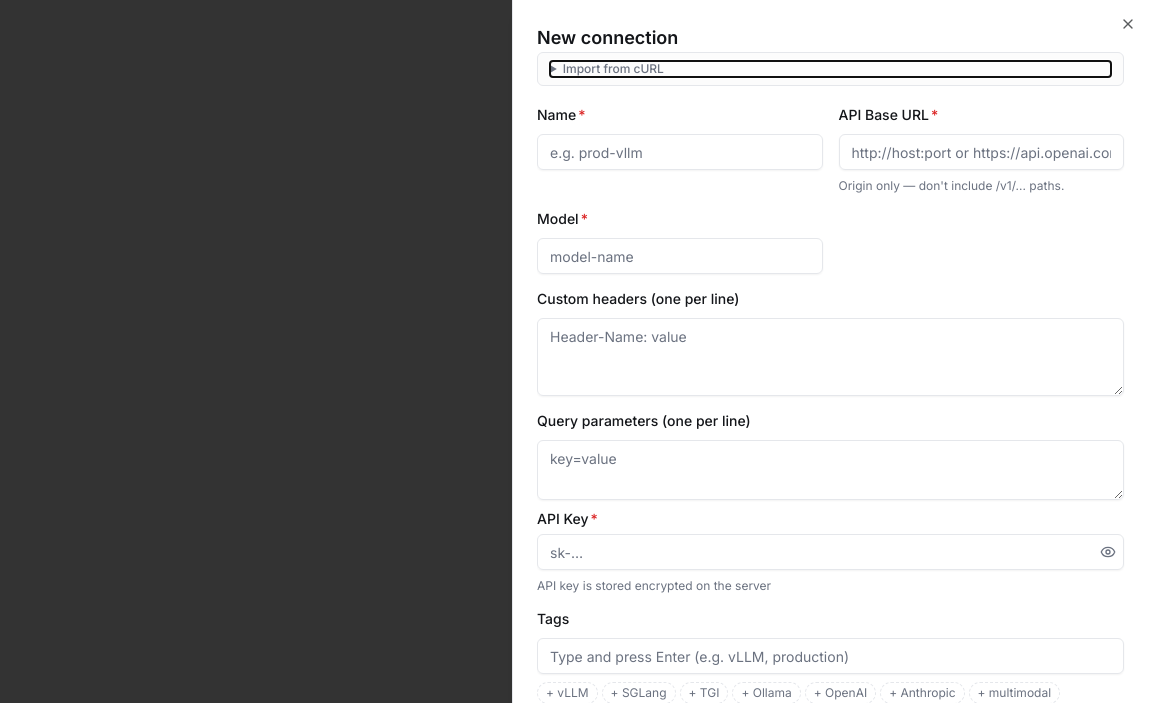
Test: ConnectionSheet (create mode) › removing a chip drops the tag
Type "x" into the field labelled "Tags" at (830, 656), box [537,638,1124,674]
Then press Enter
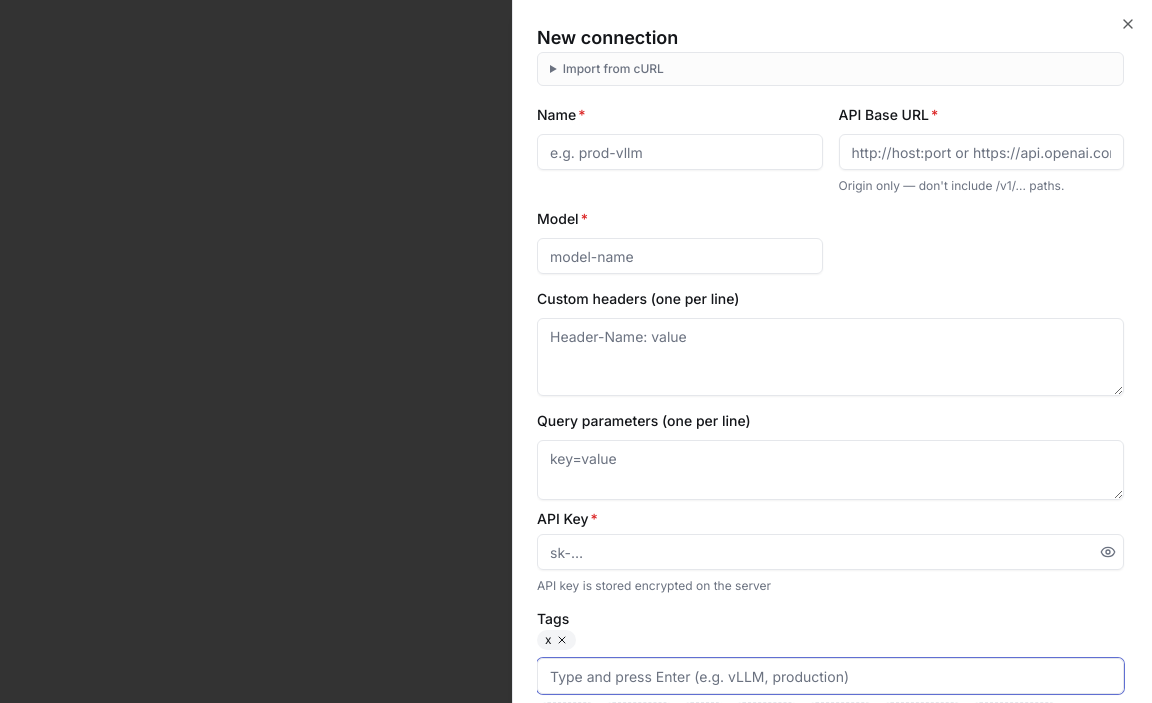
Type "y" into the field labelled "Tags" at (830, 676), box [537,658,1124,694]
Then press Enter
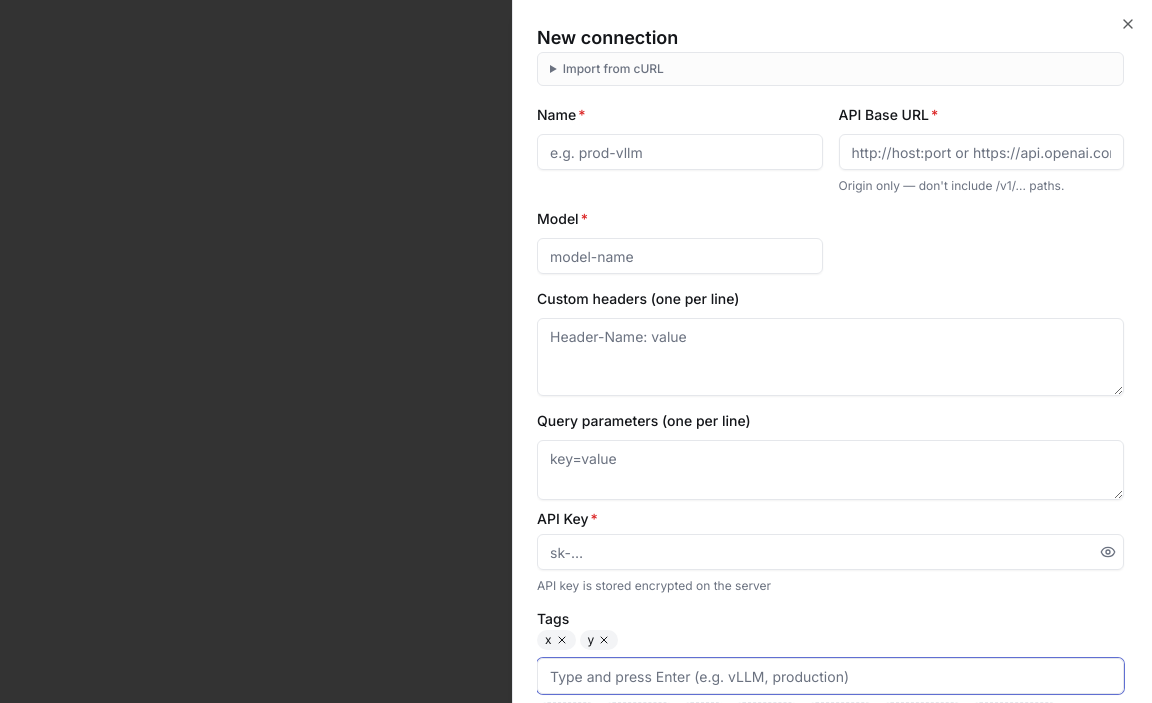
Click the button named "Remove tag x" at (562, 640), box [556,634,568,646]
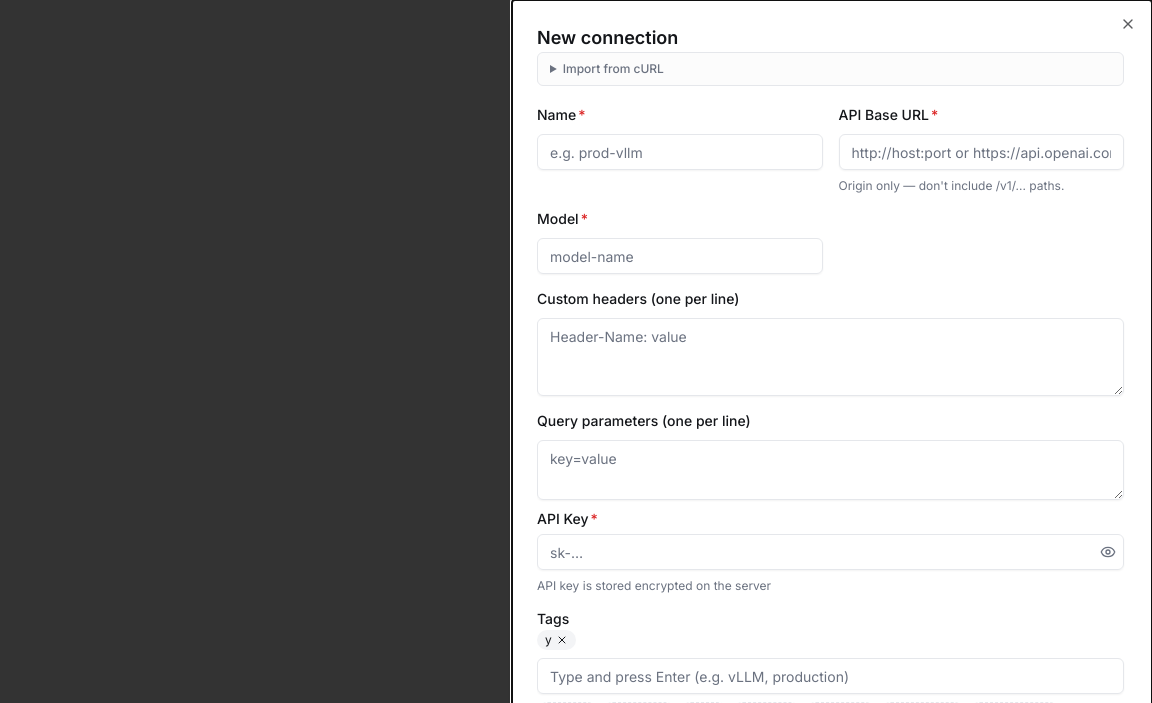
Check: the text "y" is shown, box [537,630,576,650]
Check: the text "x" is gone
